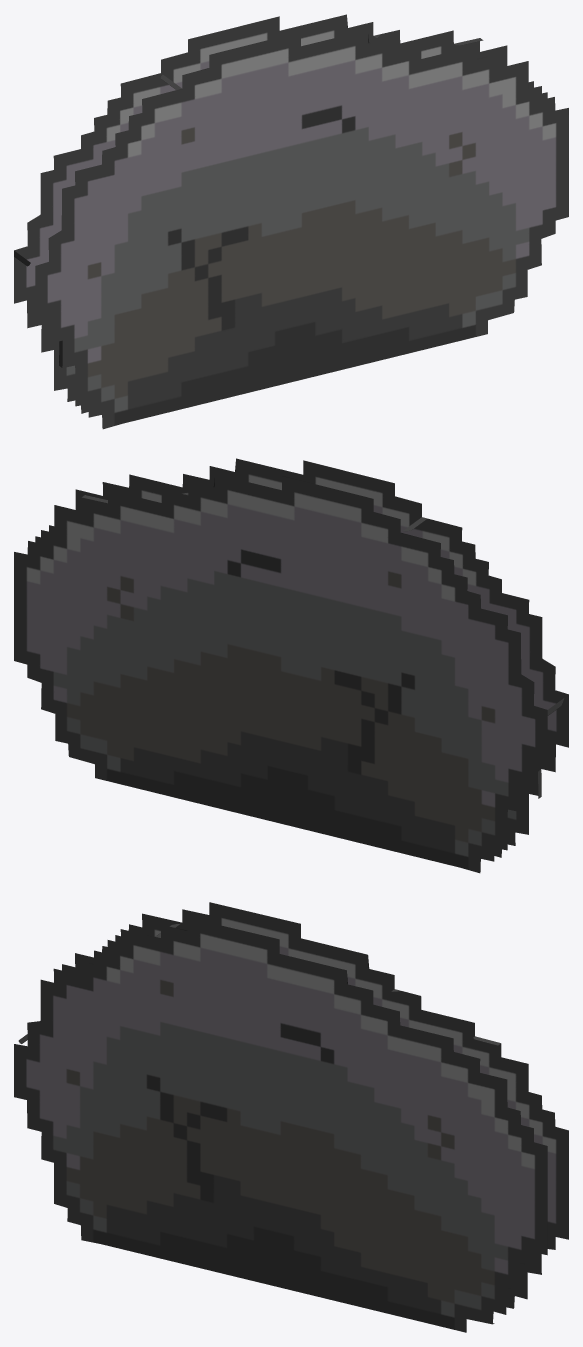
Rendered from Rock_01.fbx.
3 renders of one model, top to bottom at view 1: azimuth 30°, elevation 25°; view 2: azimuth 150°, elevation 25°; view 3: azimuth 330°, elevation 25°, orthographic.
Visible parts, largest first — view 1: objec-3 3000px1.001; view 2: objec-3 3000px1.001; view 3: objec-3 3000px1.001.
Part boxes in pixels (x1,y1,x2,y2): objec-3 3000px1.001: (14,14,568,429); objec-3 3000px1.001: (14,458,568,873); objec-3 3000px1.001: (14,902,568,1332).
Bounding box in the file's own units: 72.52 × 45.34 × 5.
Materials: 1 (1 with a texture image).
